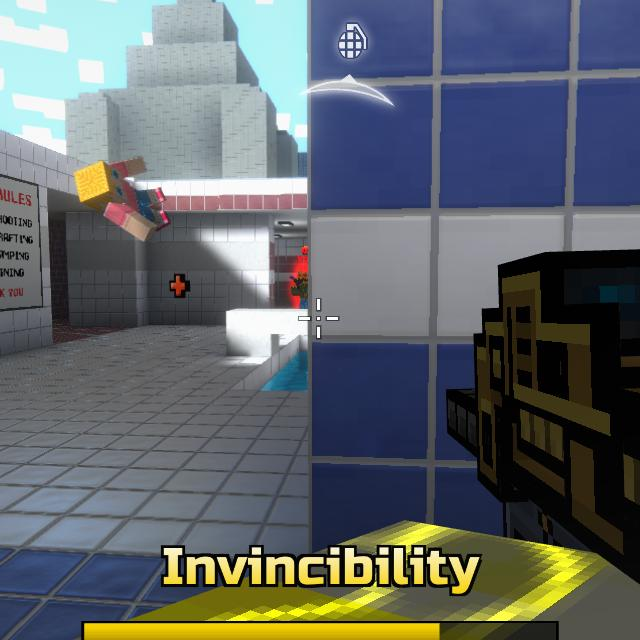Enemy: (289, 270, 306, 308)
